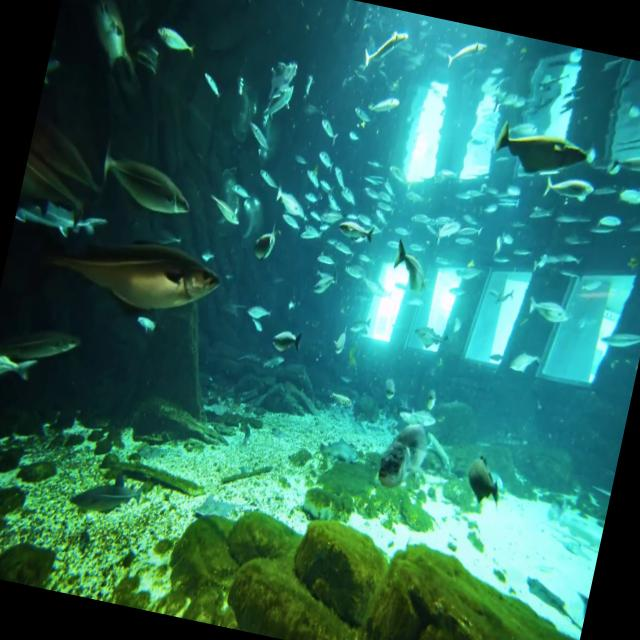fish: (24, 208, 232, 340), (86, 132, 209, 228), (488, 109, 598, 192), (361, 406, 444, 508), (73, 0, 158, 80), (450, 446, 514, 524), (376, 236, 438, 302), (261, 164, 320, 232), (146, 5, 206, 68), (360, 5, 412, 76), (441, 23, 494, 87), (538, 161, 596, 218), (200, 178, 253, 234), (385, 388, 441, 438), (592, 315, 640, 367), (252, 81, 298, 134), (194, 58, 237, 114), (266, 315, 310, 366), (525, 294, 575, 338), (258, 46, 302, 94), (360, 86, 408, 128), (244, 218, 284, 268), (335, 213, 382, 251), (312, 107, 342, 149)
